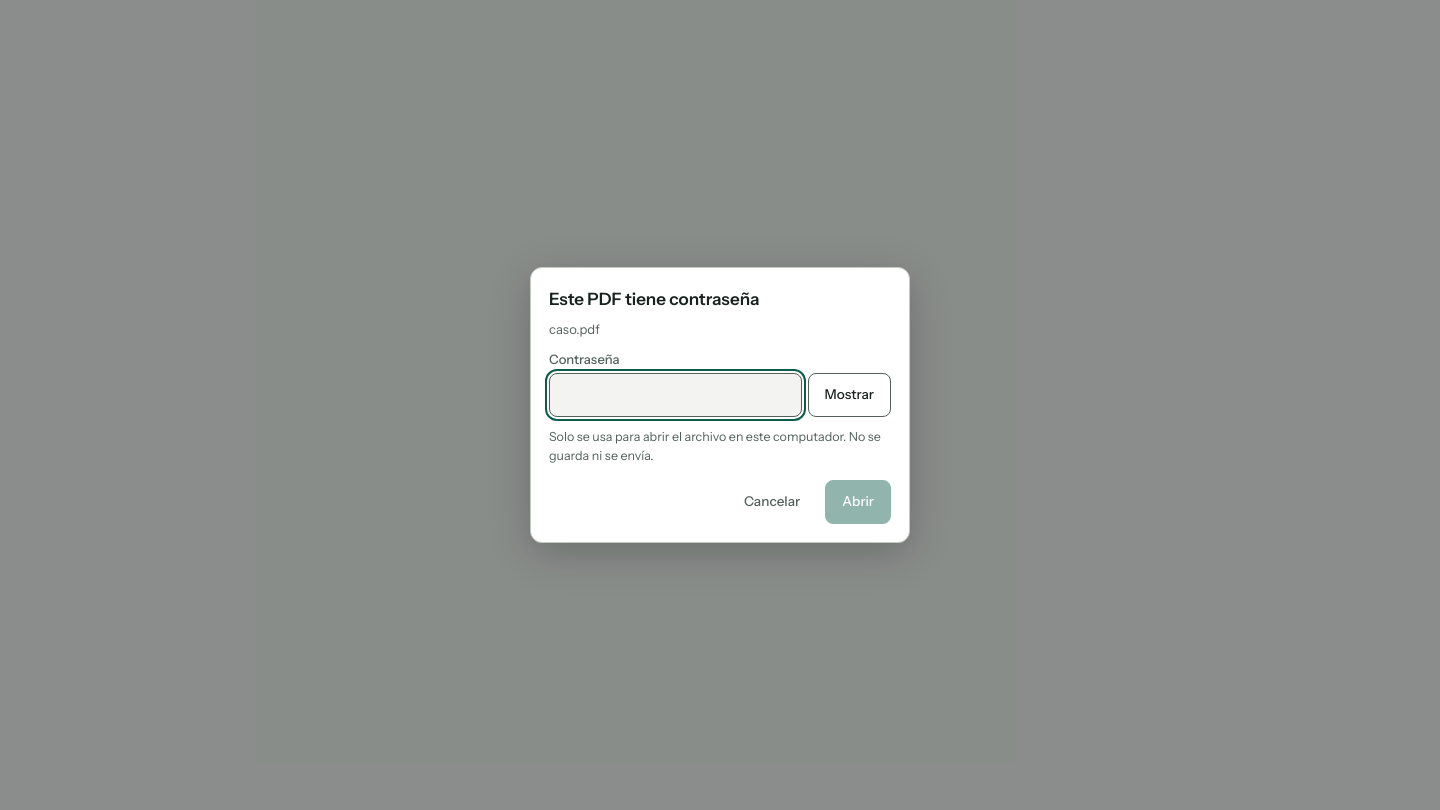
Scenario: PasswordDialog + usePasswordPrompt (T7: R1, A1, S1, S3) › tras un intento fallido sigue como el usuario la dejó; al cerrar y reabrir vuelve a estar oculta
Click the button "Mostrar" at (849, 395), box [808,373,891,417]
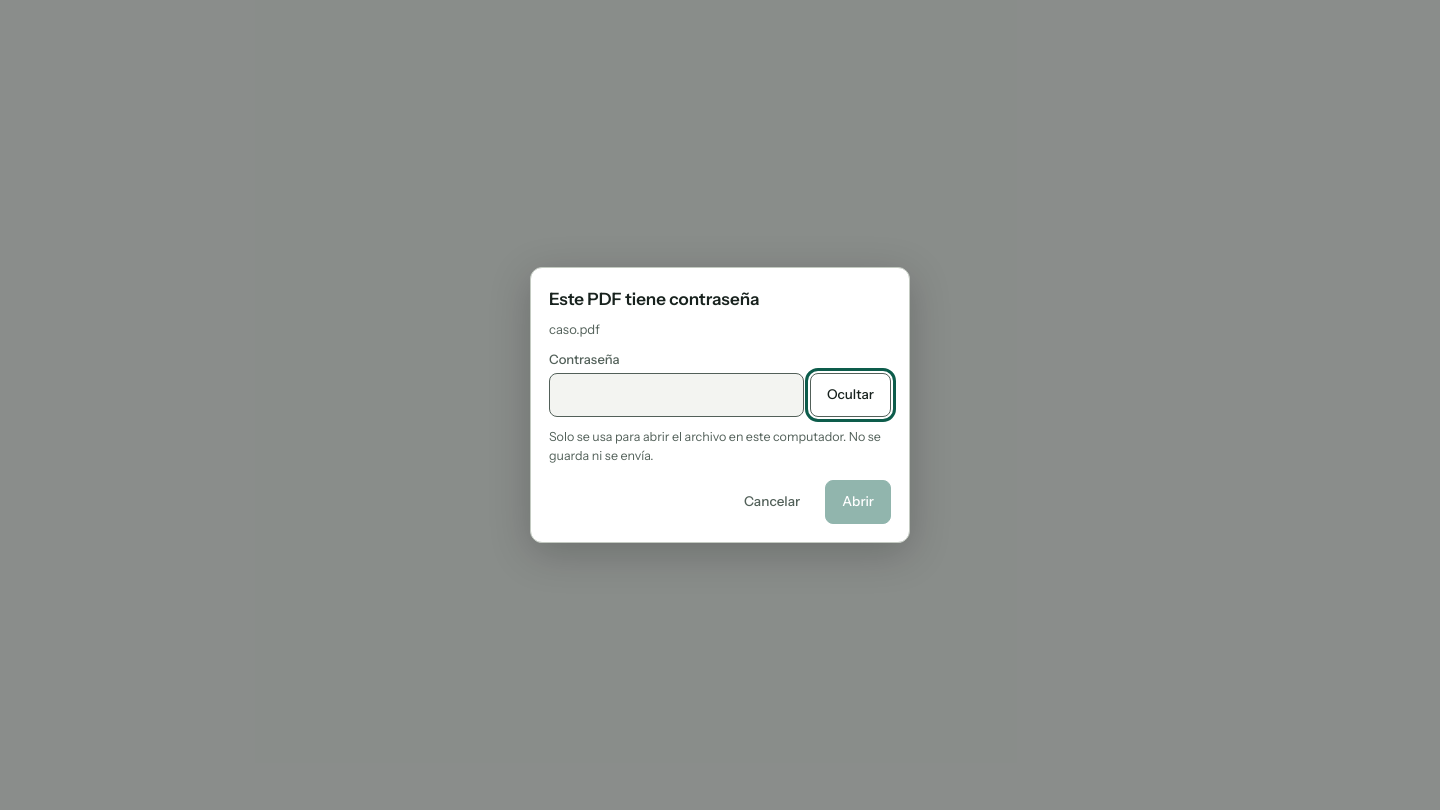
Type "mala" into the field labelled "Contraseña" at (676, 395), box [549,373,804,417]
Then press Enter
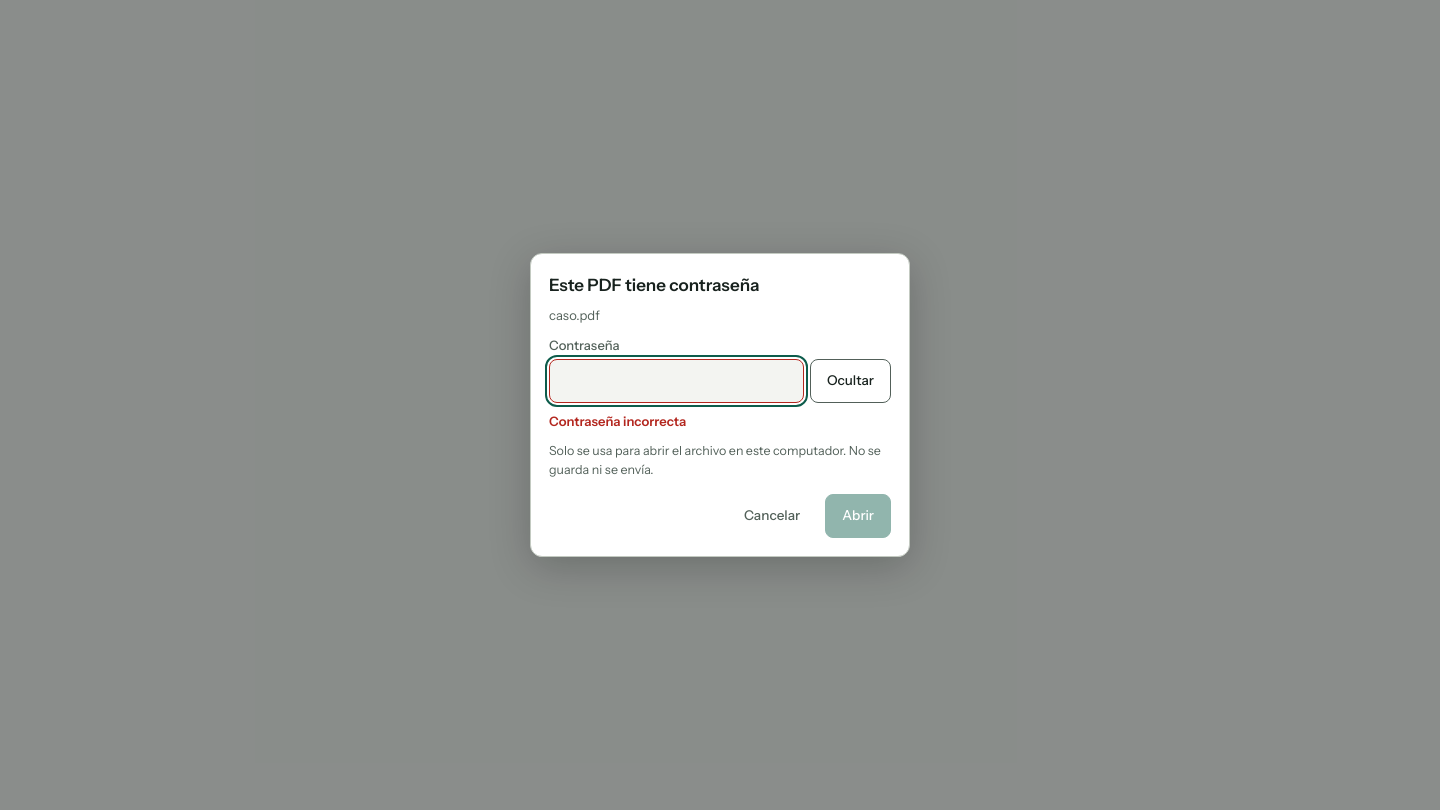
Click the button "Cancelar" at (772, 516), box [727,494,817,538]
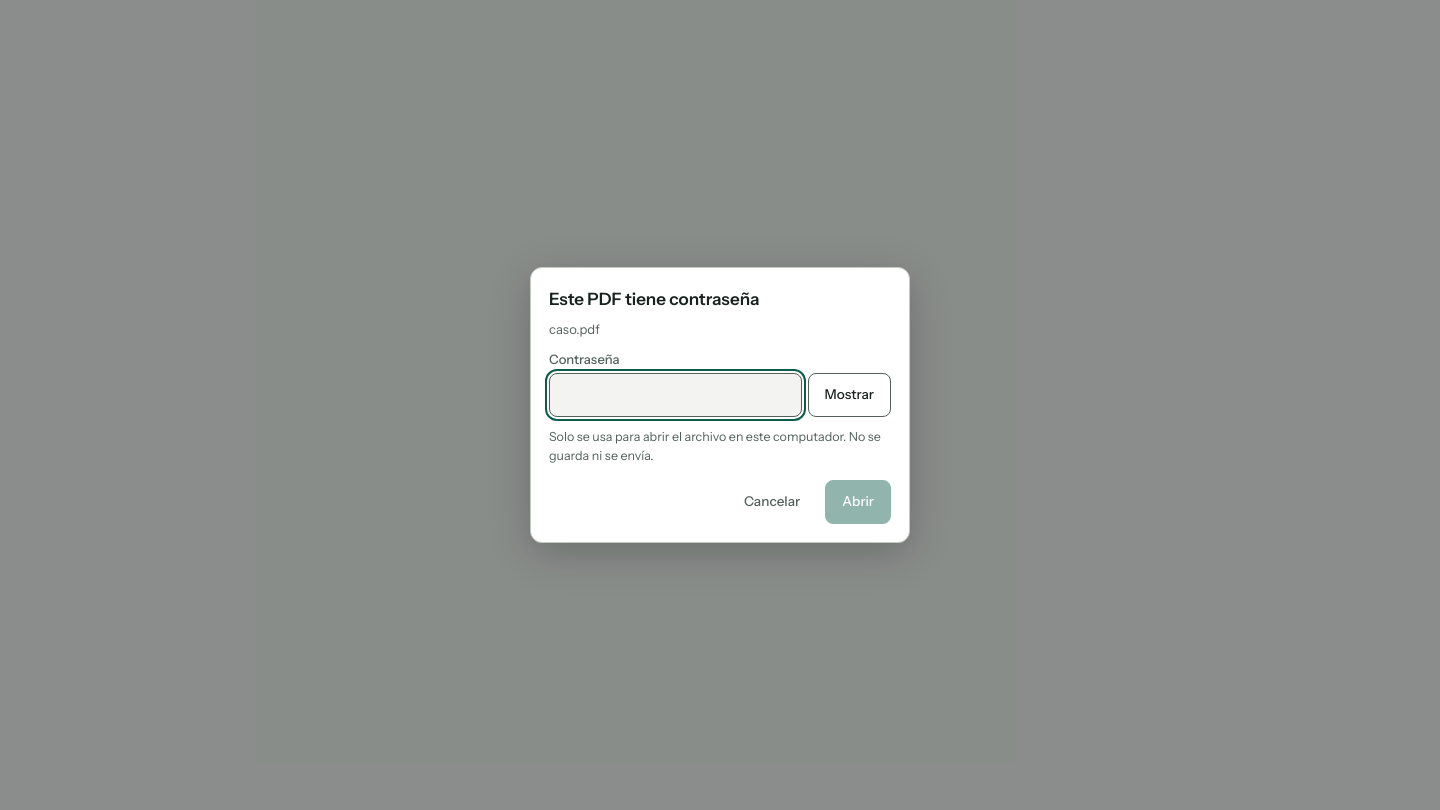
Check: the button "Mostrar" is shown, box [808,373,891,417]
